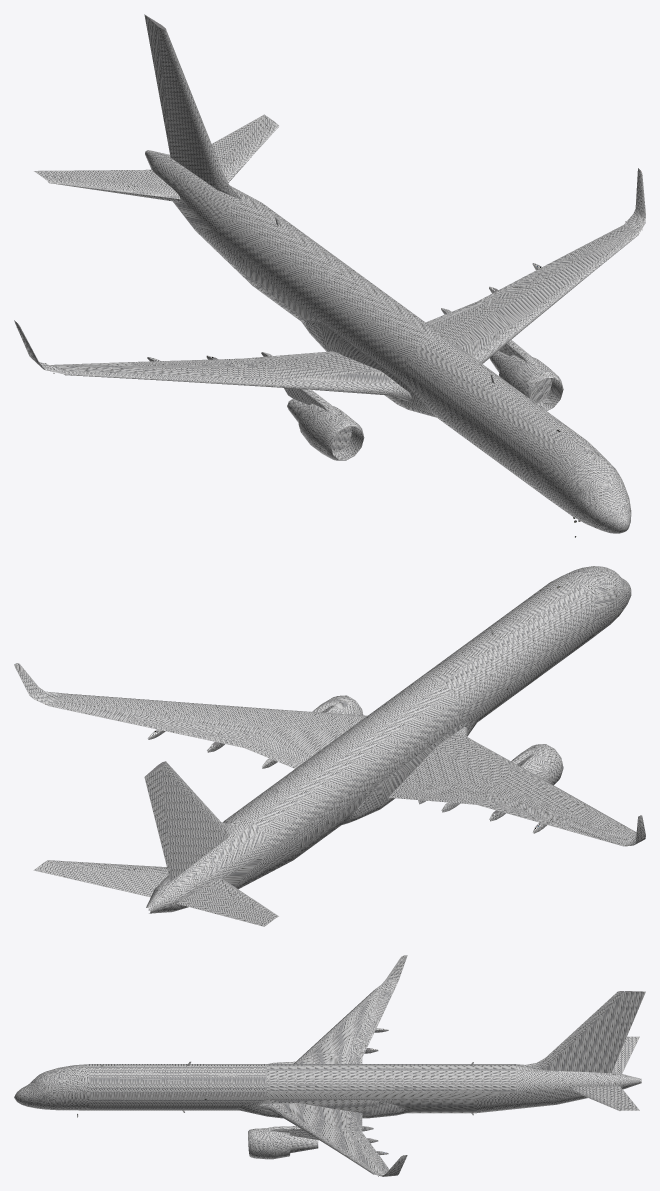
File: AIG_B757-300_PW_W_LOD1.gltf
3 renders of one model, top to bottom at view 1: azimuth 30°, elevation 25°; view 2: azimuth 150°, elevation 25°; view 3: azimuth 270°, elevation 25°, orthographic. The views are drawn at different scales.
Visible parts, largest first — view 1: fuselage_PW_low_LOD; view 2: fuselage_PW_low_LOD; view 3: fuselage_PW_low_LOD.
Boxes of the visible parts, bbox=[...] form: fuselage_PW_low_LOD: bbox=[14, 14, 645, 533]; fuselage_PW_low_LOD: bbox=[14, 566, 645, 926]; fuselage_PW_low_LOD: bbox=[14, 955, 645, 1176].
Bounding box in the file's own units: 40.89 × 12.97 × 54.48.
